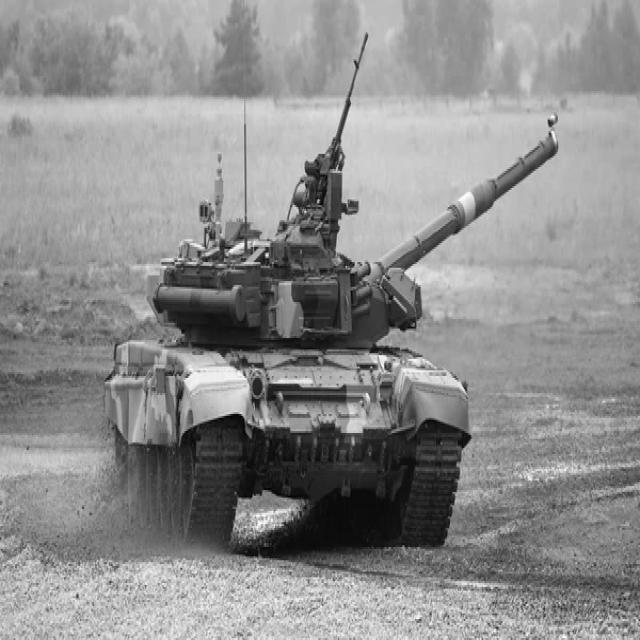Tank: (95, 67, 575, 540)
